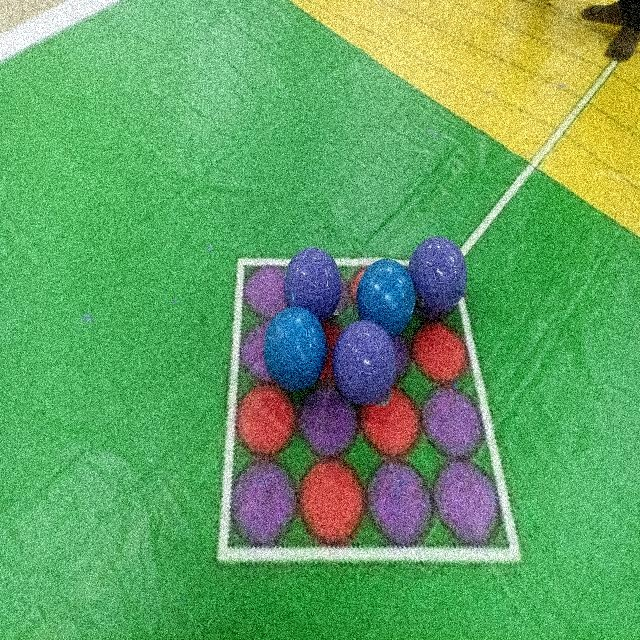blue_ball: (261, 303, 328, 392), (355, 256, 417, 341)
purple_ball: (330, 318, 399, 407), (409, 233, 468, 324), (282, 244, 342, 325)
